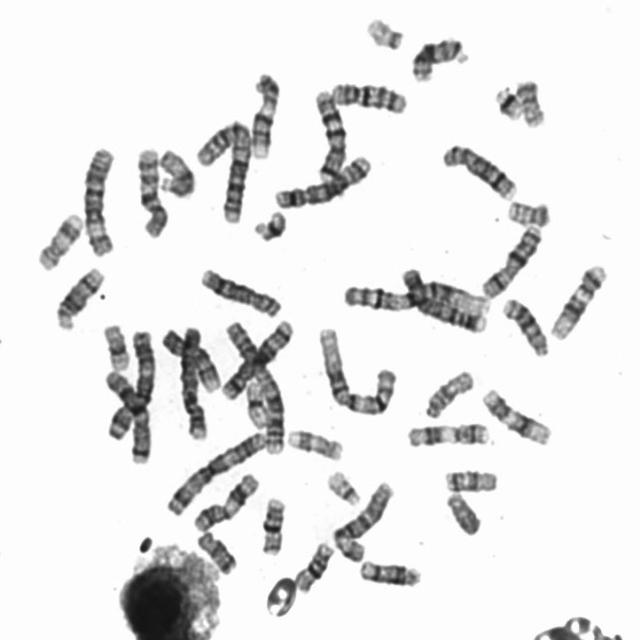A1: (315, 324, 399, 417), (342, 280, 491, 318)
A2: (223, 320, 284, 456), (197, 116, 251, 224)
A3: (165, 432, 269, 518), (106, 330, 155, 442)
B4: (398, 265, 488, 335), (180, 323, 208, 440)
B5: (222, 318, 294, 401), (273, 154, 371, 208)
C10: (136, 144, 170, 241), (332, 81, 408, 116)
C11: (193, 473, 261, 533), (404, 422, 490, 448)
C12: (549, 263, 608, 342), (482, 388, 552, 446)
C6: (331, 479, 394, 564), (80, 145, 118, 259)
C7: (104, 369, 152, 464), (313, 89, 347, 185)
C8: (440, 143, 520, 202), (200, 267, 284, 318)
C9: (158, 326, 222, 392), (250, 74, 281, 158)
D13: (409, 35, 469, 87), (502, 294, 548, 358)
D14: (54, 266, 106, 332), (357, 560, 423, 589)
D15: (422, 370, 478, 420), (158, 146, 196, 200)
E16: (293, 542, 336, 596), (259, 496, 287, 557)
E17: (33, 213, 83, 272), (286, 428, 344, 462)
E18: (195, 532, 238, 576), (444, 471, 503, 493)
F19: (100, 323, 130, 371), (246, 381, 272, 428)
F20: (514, 78, 547, 130), (507, 202, 555, 227)
G21: (250, 208, 288, 244), (490, 87, 524, 123)
G22: (322, 468, 362, 507), (364, 19, 404, 53)
X: (478, 225, 544, 303)
Y: (445, 492, 484, 538)
